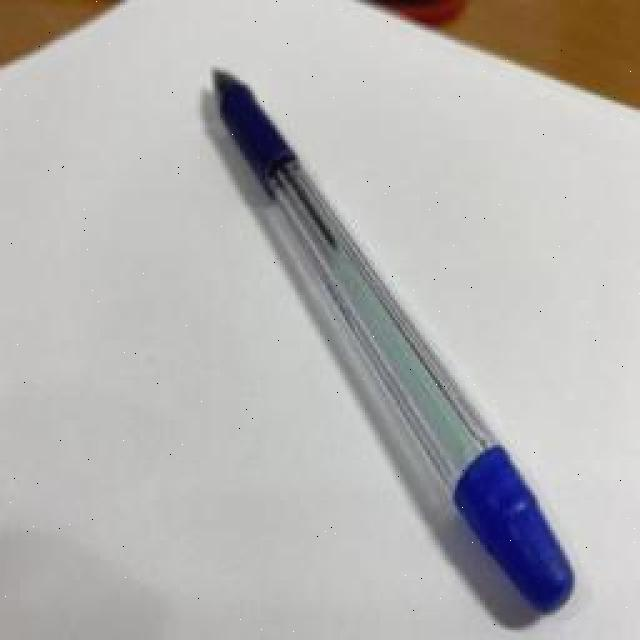pen: (207, 65, 575, 623)
